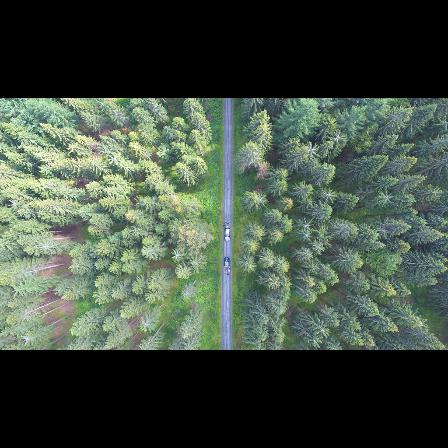Sick: (327, 126, 348, 148), (374, 189, 396, 206), (304, 139, 320, 159), (320, 188, 338, 205), (104, 151, 123, 166), (298, 215, 313, 233), (170, 246, 185, 264), (310, 239, 325, 255)
